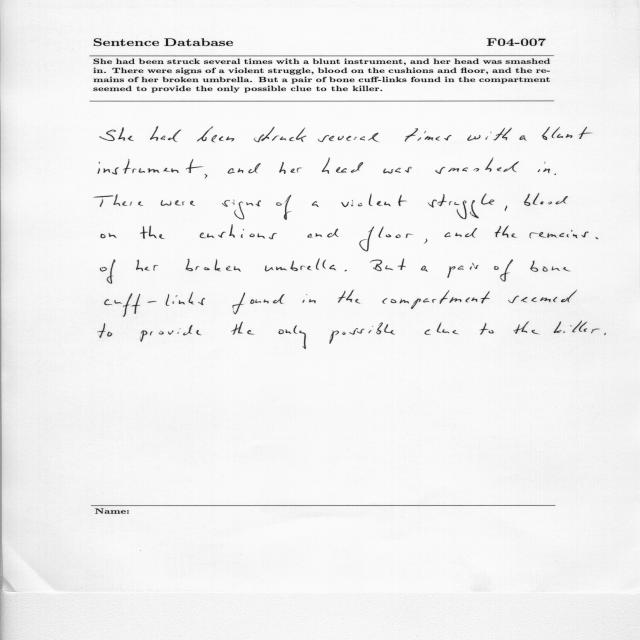word: (105, 292, 205, 317), (382, 290, 490, 309), (428, 194, 494, 219), (98, 159, 203, 174), (329, 322, 395, 344), (435, 158, 519, 174), (360, 227, 413, 252), (200, 225, 277, 240), (233, 293, 285, 315), (141, 325, 202, 342), (341, 193, 407, 207), (265, 259, 336, 272), (508, 290, 577, 303), (254, 127, 306, 142), (222, 200, 261, 219), (186, 259, 241, 272), (278, 325, 306, 349), (322, 158, 363, 174), (542, 127, 592, 140), (405, 128, 451, 142), (94, 194, 143, 207), (530, 230, 599, 239), (197, 127, 234, 143), (467, 128, 512, 141), (524, 193, 568, 206), (554, 321, 600, 333), (318, 133, 378, 142), (150, 126, 181, 142), (447, 263, 479, 278), (100, 127, 134, 141), (370, 259, 406, 272), (425, 322, 459, 335), (530, 261, 570, 272), (494, 259, 513, 282), (276, 195, 292, 220), (101, 259, 116, 284), (228, 163, 261, 174), (514, 322, 540, 335), (444, 228, 477, 238), (140, 226, 164, 239), (231, 322, 254, 335), (495, 225, 517, 238), (338, 290, 360, 303), (308, 229, 339, 238), (279, 162, 302, 174), (136, 260, 158, 271), (98, 323, 112, 338), (161, 200, 195, 206), (383, 167, 412, 174), (480, 323, 494, 335), (538, 162, 550, 173), (302, 294, 316, 303), (101, 233, 117, 238), (312, 201, 319, 207), (421, 266, 428, 272), (520, 136, 527, 141), (424, 239, 427, 244), (505, 206, 507, 212), (205, 174, 207, 178), (604, 333, 606, 335), (554, 174, 556, 175), (345, 270, 347, 271)
